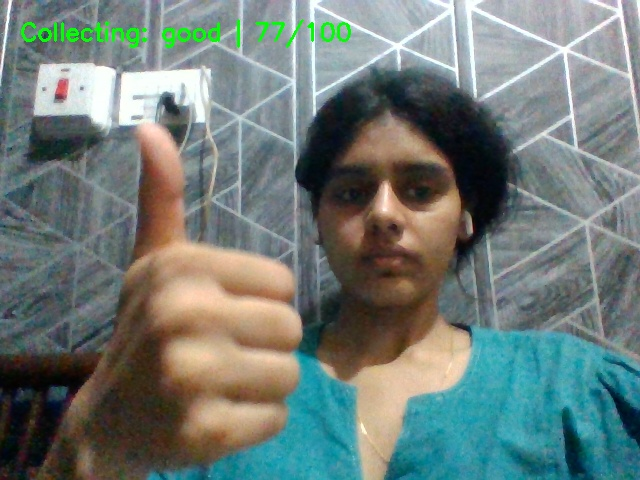good: (98, 115, 317, 473)
